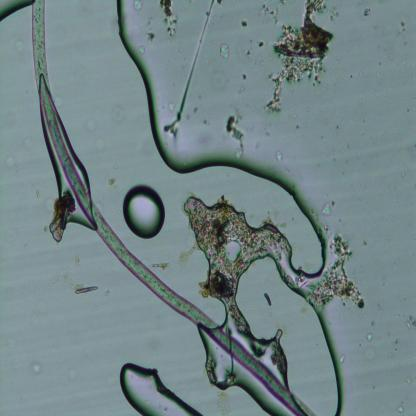Air bubble: (111, 1, 287, 194), (230, 250, 352, 416), (243, 152, 327, 279), (199, 325, 287, 416), (120, 361, 202, 415), (123, 183, 166, 242), (0, 0, 34, 21)
Background material: (185, 181, 290, 314), (265, 0, 334, 115), (164, 0, 216, 139), (313, 235, 368, 316), (48, 187, 76, 244), (158, 2, 180, 45), (224, 114, 244, 146), (67, 279, 98, 297), (109, 98, 130, 123), (360, 342, 377, 361), (216, 41, 230, 63), (320, 198, 336, 216), (359, 1, 374, 20), (31, 358, 46, 374), (262, 291, 274, 307), (55, 92, 66, 109), (405, 315, 416, 330), (152, 262, 170, 271), (274, 148, 284, 164), (146, 30, 156, 45), (7, 157, 19, 168), (238, 70, 248, 83), (244, 45, 252, 61), (24, 132, 32, 148), (364, 331, 374, 343), (167, 101, 176, 113), (133, 0, 142, 11), (338, 352, 346, 363), (258, 40, 265, 48), (241, 20, 247, 28)
Microfibre: (32, 0, 315, 416)
